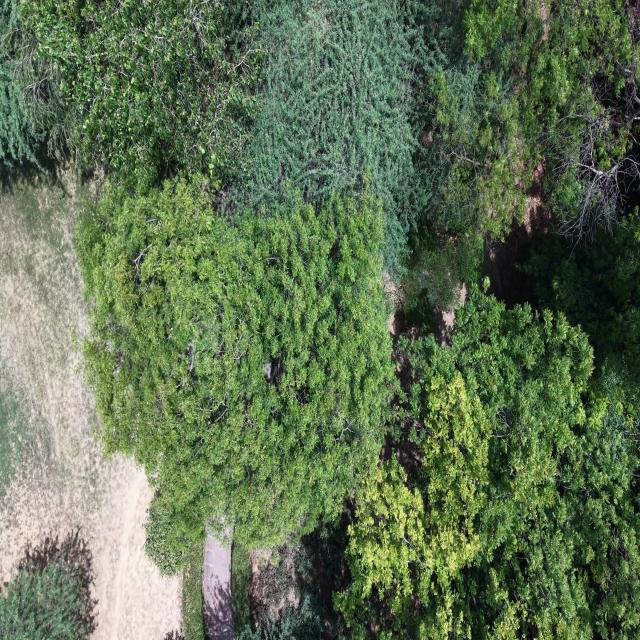DRY_AREA: (0, 173, 180, 639), (203, 534, 234, 639)
VEGETATION_TREE: (0, 0, 639, 639), (3, 0, 639, 306), (3, 0, 638, 268), (78, 180, 393, 571), (335, 289, 639, 638), (236, 0, 523, 307), (409, 0, 639, 306), (238, 0, 416, 272), (9, 0, 257, 181), (463, 0, 639, 237), (406, 0, 527, 315), (413, 0, 525, 241), (522, 210, 639, 396), (236, 525, 347, 639), (0, 531, 96, 639), (403, 233, 483, 324), (0, 0, 44, 165), (237, 594, 343, 639), (0, 67, 38, 165), (175, 545, 206, 639), (231, 543, 251, 637), (164, 630, 185, 639)
